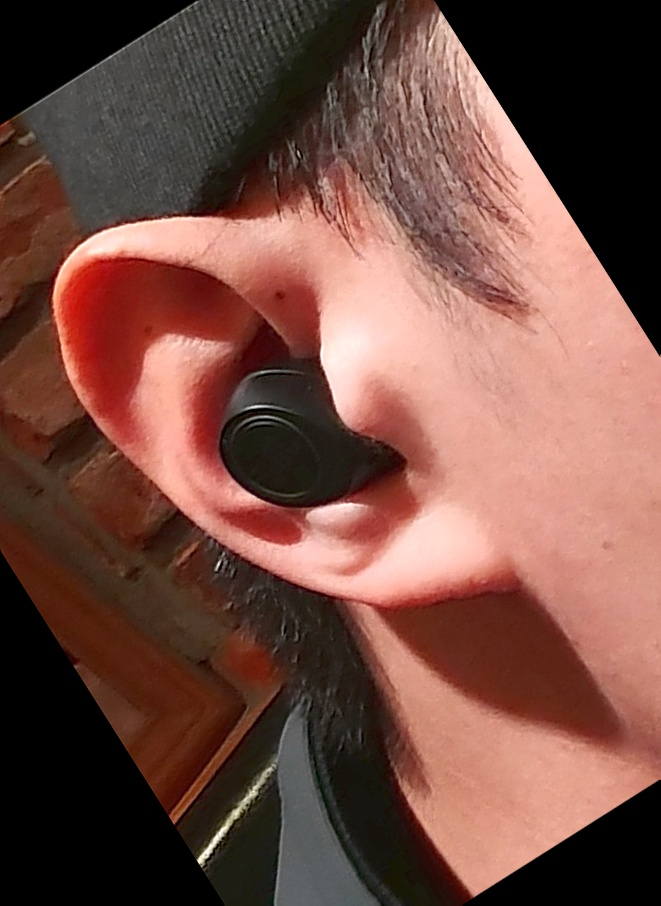earphone: (10, 134, 534, 733)
